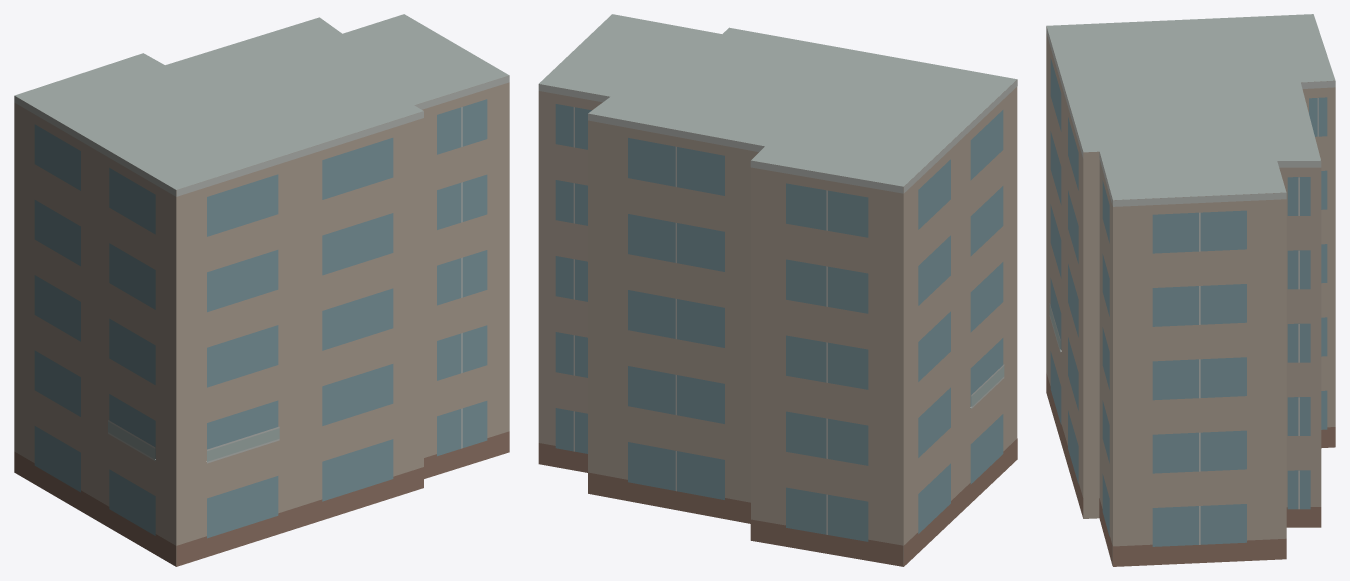
File: survey-upis-32719555.glb
The picture shows the model from 3 angles, left to right: view 1: azimuth 30°, elevation 25°; view 2: azimuth 150°, elevation 25°; view 3: azimuth 270°, elevation 25°; orthographic projection. The views are drawn at different scales.
Visible parts, largest first — view 1: survey-upis-32719555.tmp; view 2: survey-upis-32719555.tmp; view 3: survey-upis-32719555.tmp.
Part boxes in pixels (x1,y1,x2,y2): survey-upis-32719555.tmp: (14,14,509,566); survey-upis-32719555.tmp: (538,14,1017,566); survey-upis-32719555.tmp: (1046,14,1335,566).
Bounding box in the file's own units: 14.49 × 13.3 × 9.52.
